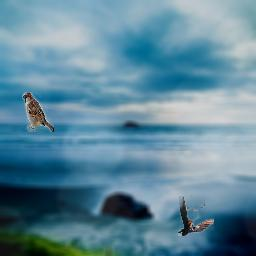Sparrow: (22, 92, 54, 132)
Swallow: (178, 196, 214, 236)
